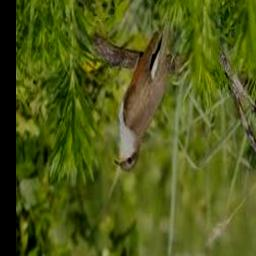Cuckoo: (114, 20, 172, 172)
